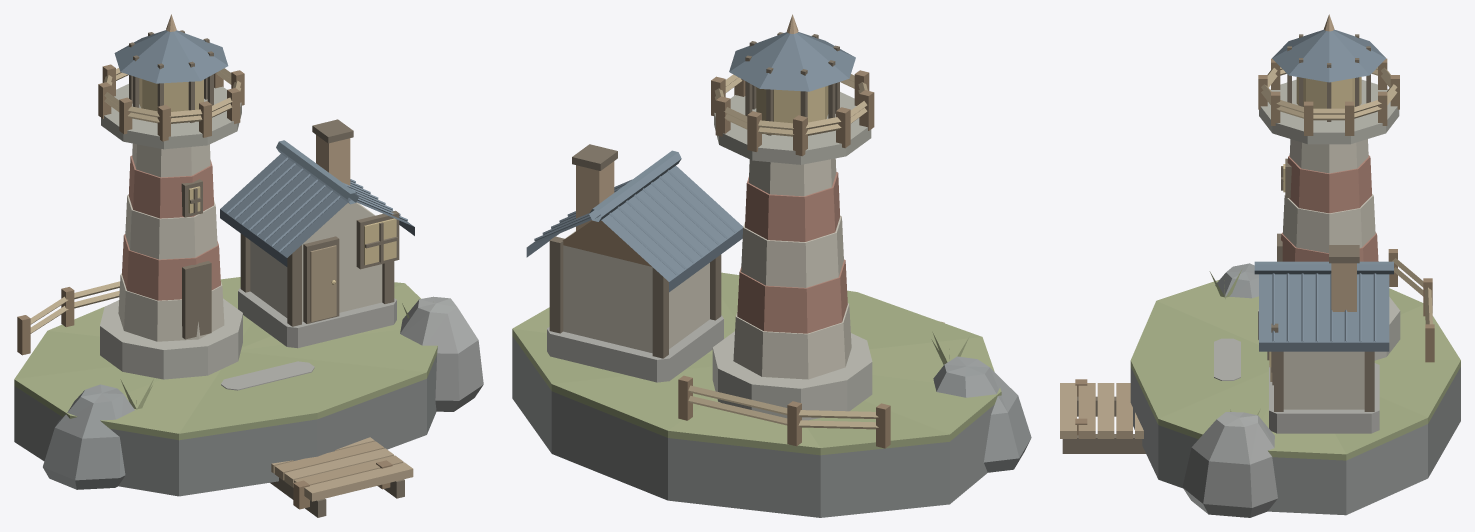
3 renders of one model, left to right at view 1: azimuth 30°, elevation 25°; view 2: azimuth 150°, elevation 25°; view 3: azimuth 270°, elevation 25°, orthographic. The views are drawn at different scales.
Visible parts, largest first — view 1: S02; view 2: S02; view 3: S02.
Boxes of the visible parts, x1,y1,x2,y2 form: S02: [14, 14, 483, 517]; S02: [512, 14, 1031, 517]; S02: [1060, 14, 1460, 517].
Size of the model in its own units: 4.79 by 4.41 by 4.06.
